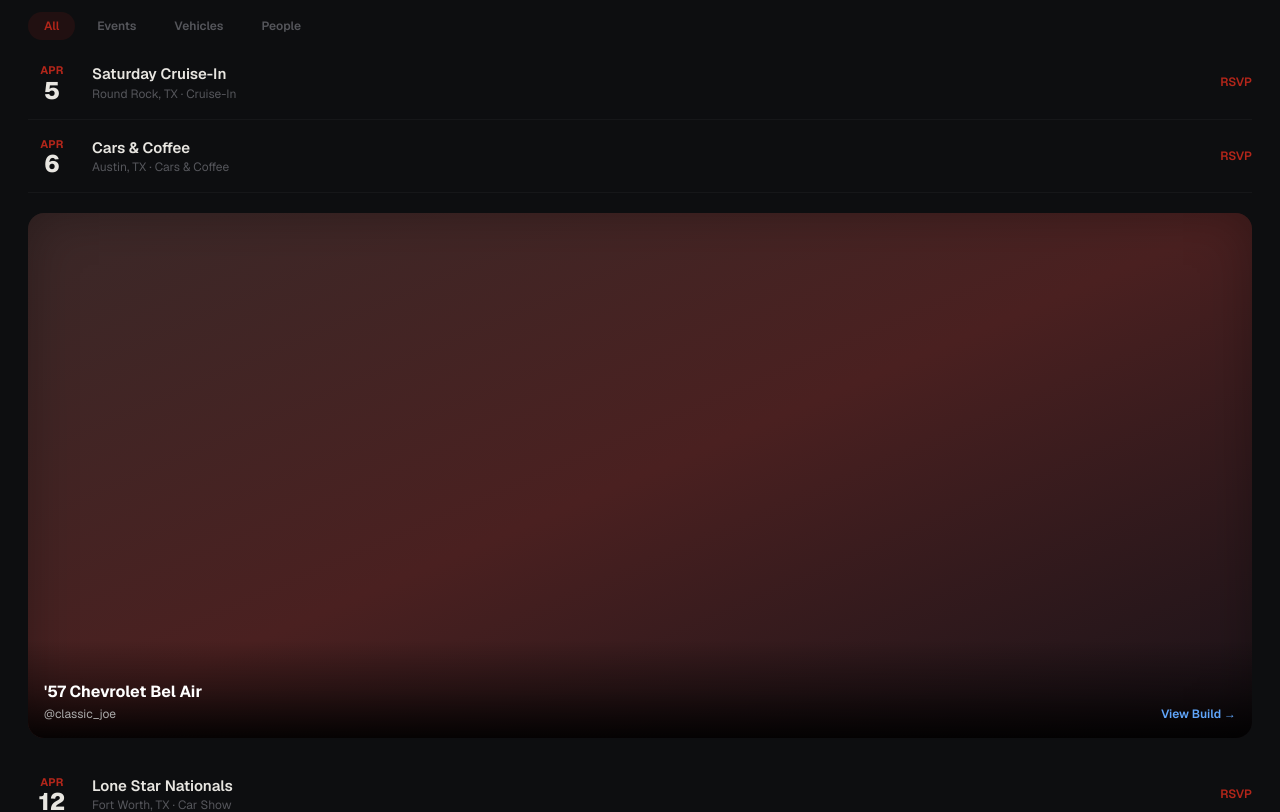
it: LandingFeed › filters to show only vehicles when Vehicles tab is selected
Click the tab "Vehicles": (199, 26) [158,12,239,40]
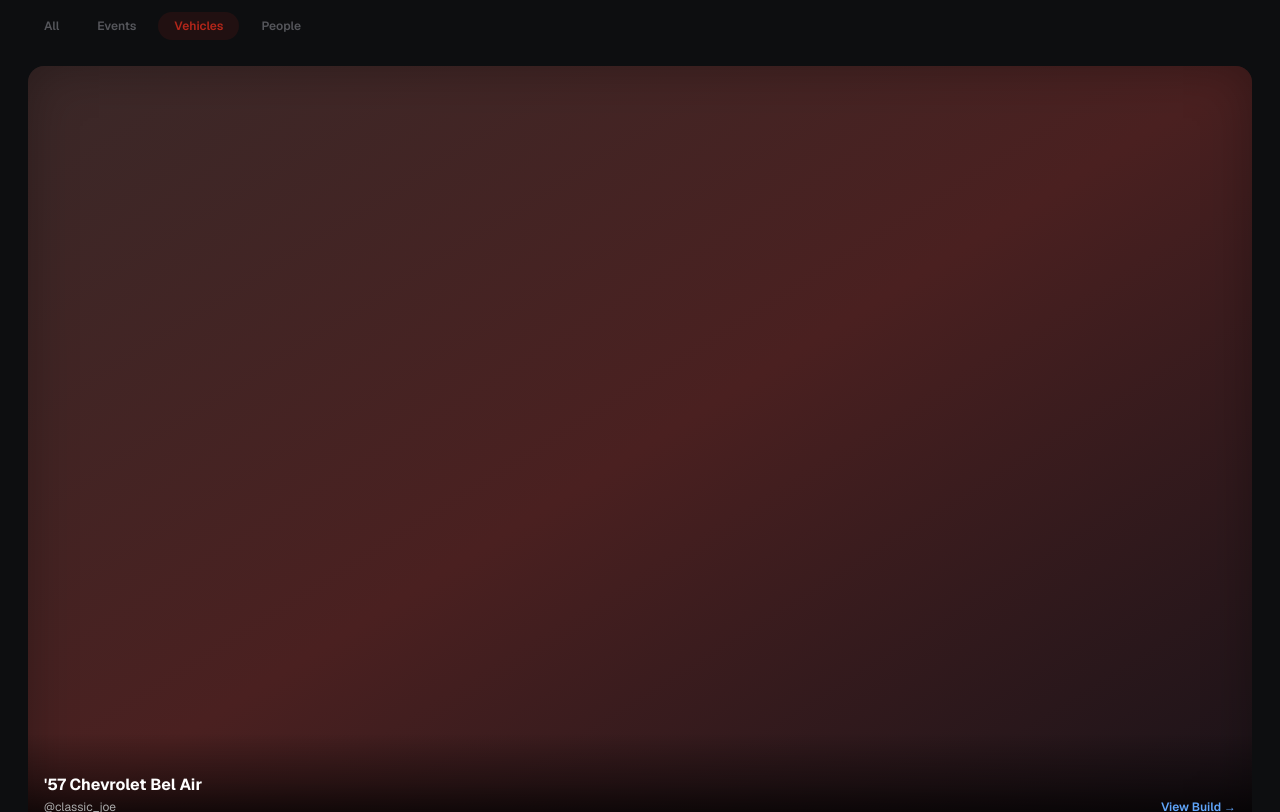
Expected: the text "'57 Chevrolet Bel Air" is shown, [44,773,202,797]
Expected: the link "Saturday Cruise-In" is gone
